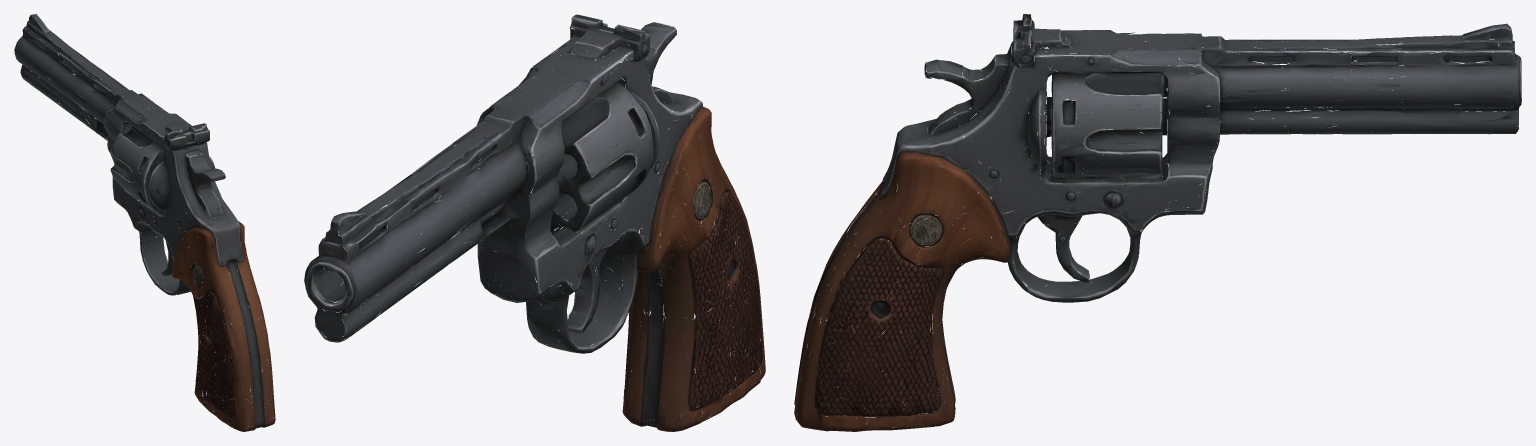
File: revolver.glb
3 views of the same model, side by side, from view 1: azimuth 30°, elevation 25°; view 2: azimuth 150°, elevation 25°; view 3: azimuth 270°, elevation 25° (orthographic). The views are drawn at different scales.
Visible parts, largest first — view 1: tripo_node_17f493ea-b369-47bb-9b9f-7144942b1e98; view 2: tripo_node_17f493ea-b369-47bb-9b9f-7144942b1e98; view 3: tripo_node_17f493ea-b369-47bb-9b9f-7144942b1e98.
Part boxes in pixels (box(x1,y1,x2,y2)): tripo_node_17f493ea-b369-47bb-9b9f-7144942b1e98: box(14, 14, 275, 431); tripo_node_17f493ea-b369-47bb-9b9f-7144942b1e98: box(304, 14, 765, 431); tripo_node_17f493ea-b369-47bb-9b9f-7144942b1e98: box(794, 14, 1521, 431).
Bounding box in the file's own units: 0.0464 × 0.161 × 0.27.
Materials: 1 (1 with a texture image).
